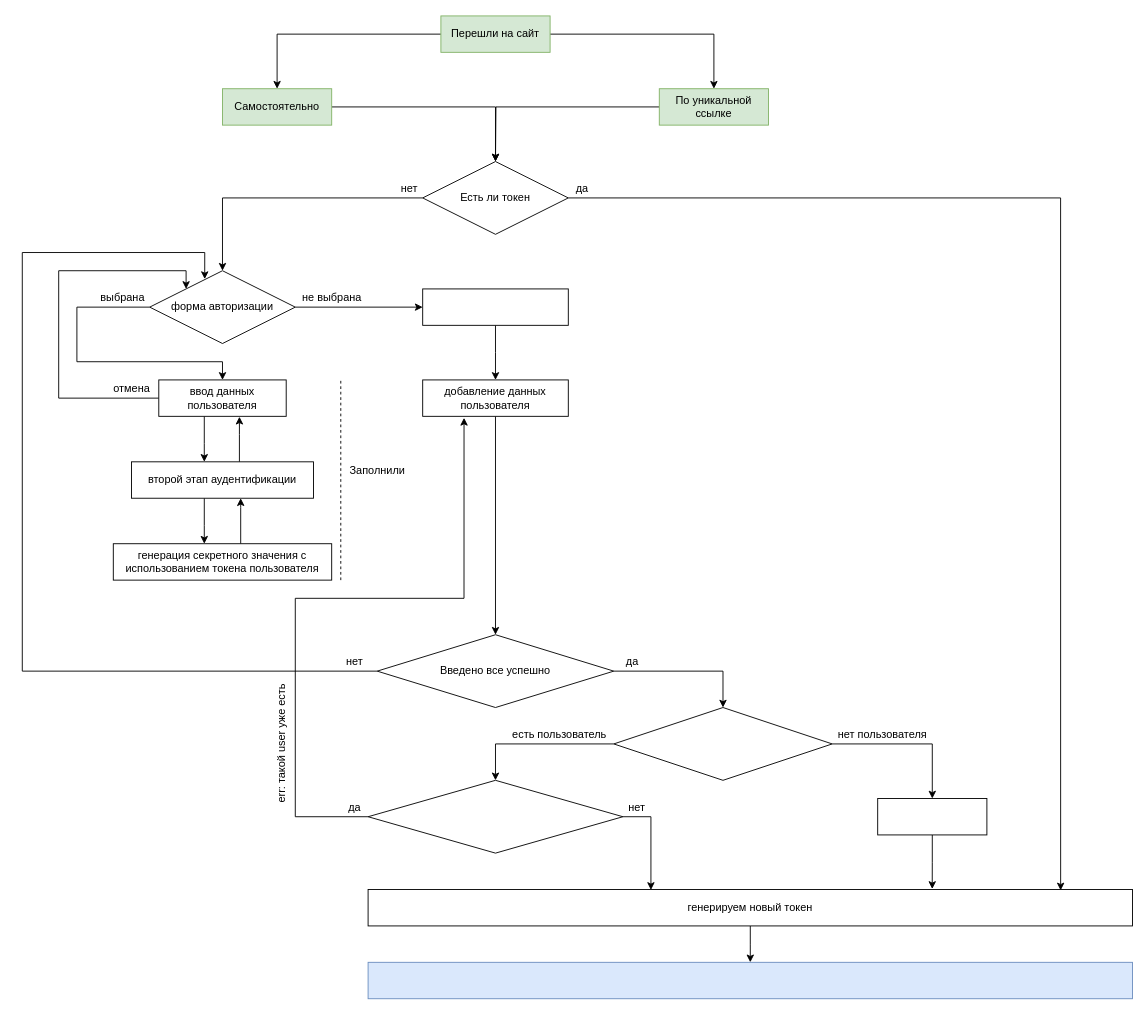
Image size: 1148x1015. Some labels were removed from this diagram. The box of each missing label's shape, as (x1, y1, x2, y2) in pixels:
доступ к форме выбора комнаты и роли: (367, 961, 1132, 999)
запись в бд: (877, 798, 987, 835)
пришли из формы регистрации: (367, 779, 623, 853)
Проверка уникальности: (613, 707, 832, 780)
форма регистрации: (422, 288, 568, 325)
